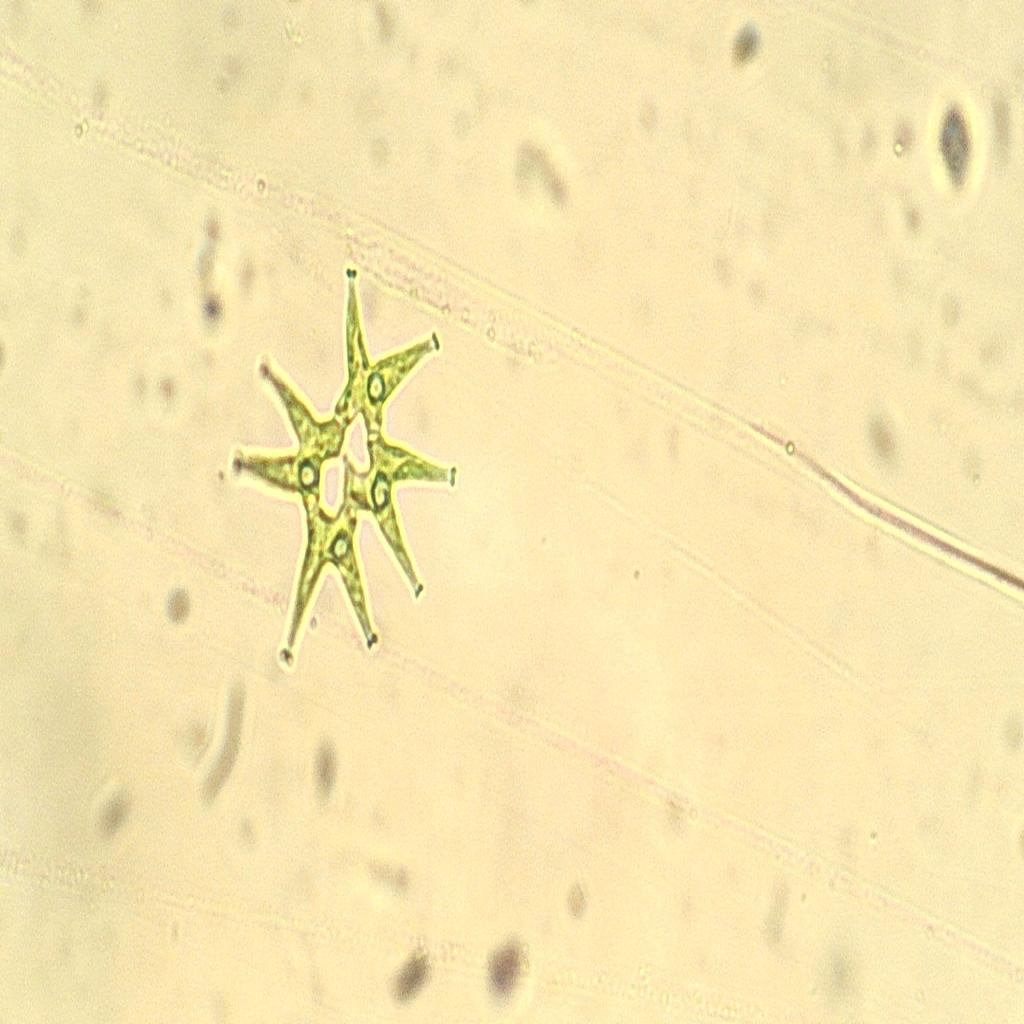Pediastrum_75FO: (226, 243, 468, 680)
